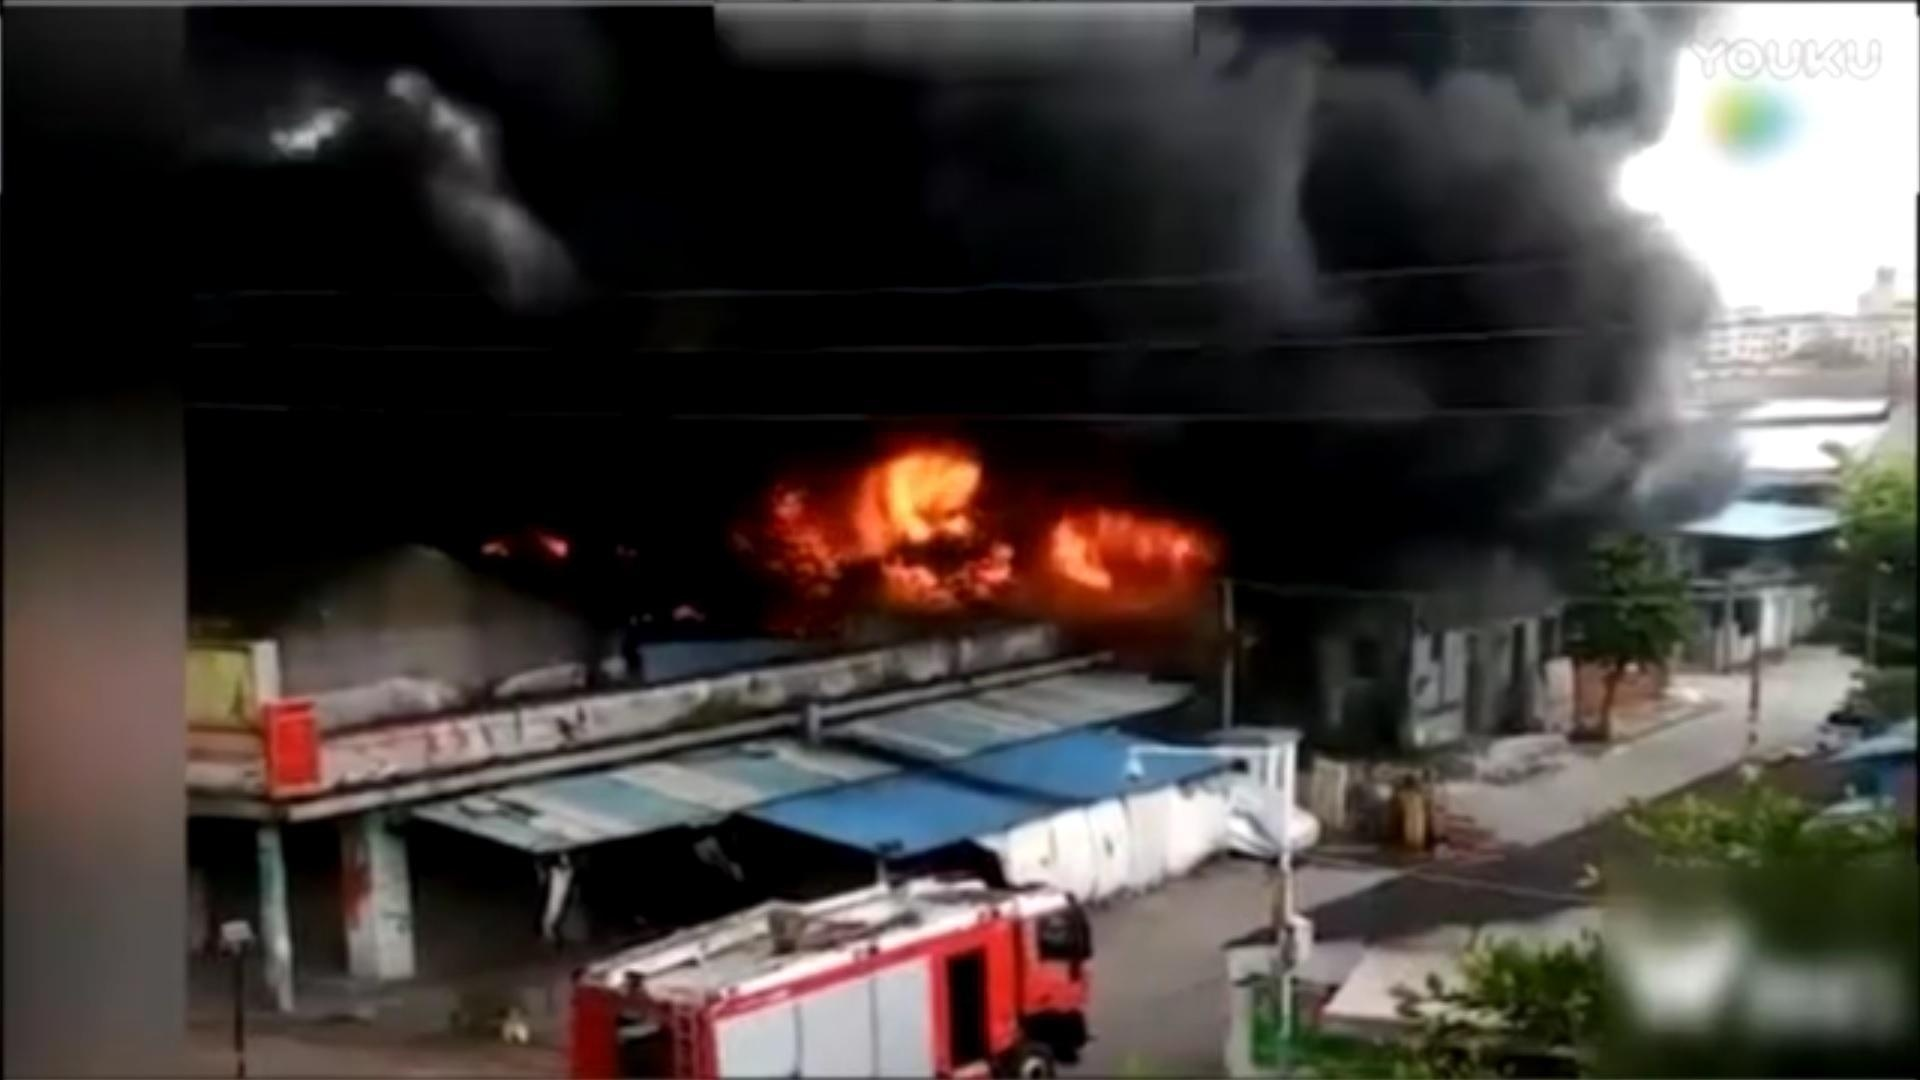fire: (757, 440, 1211, 597)
